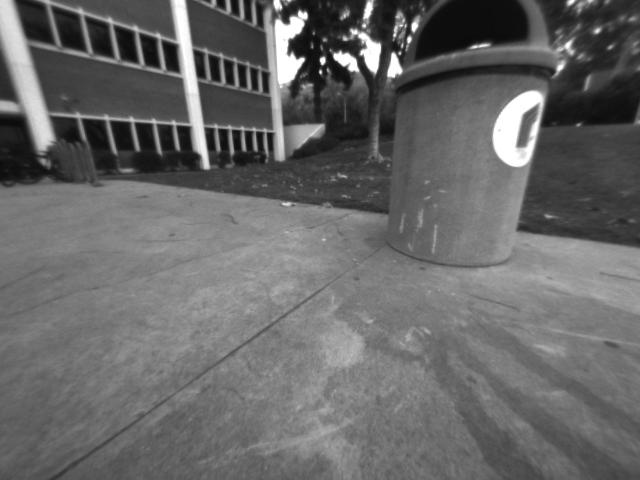trashcan: (376, 1, 582, 291)
